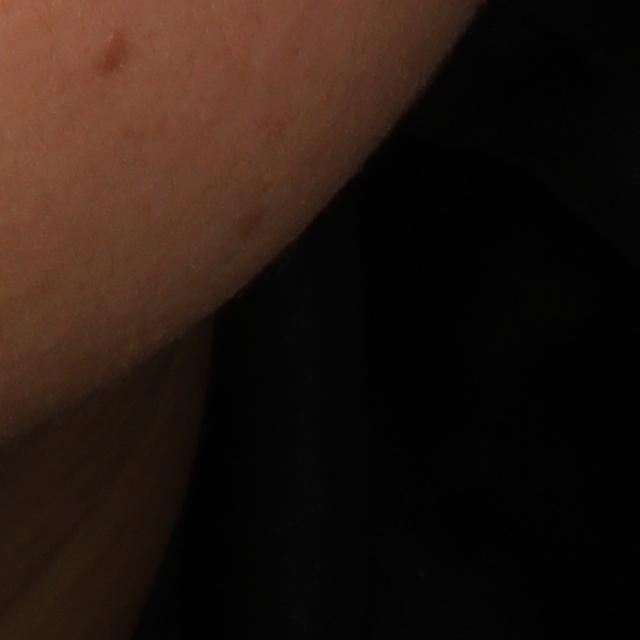nevus: (92, 24, 132, 77)
